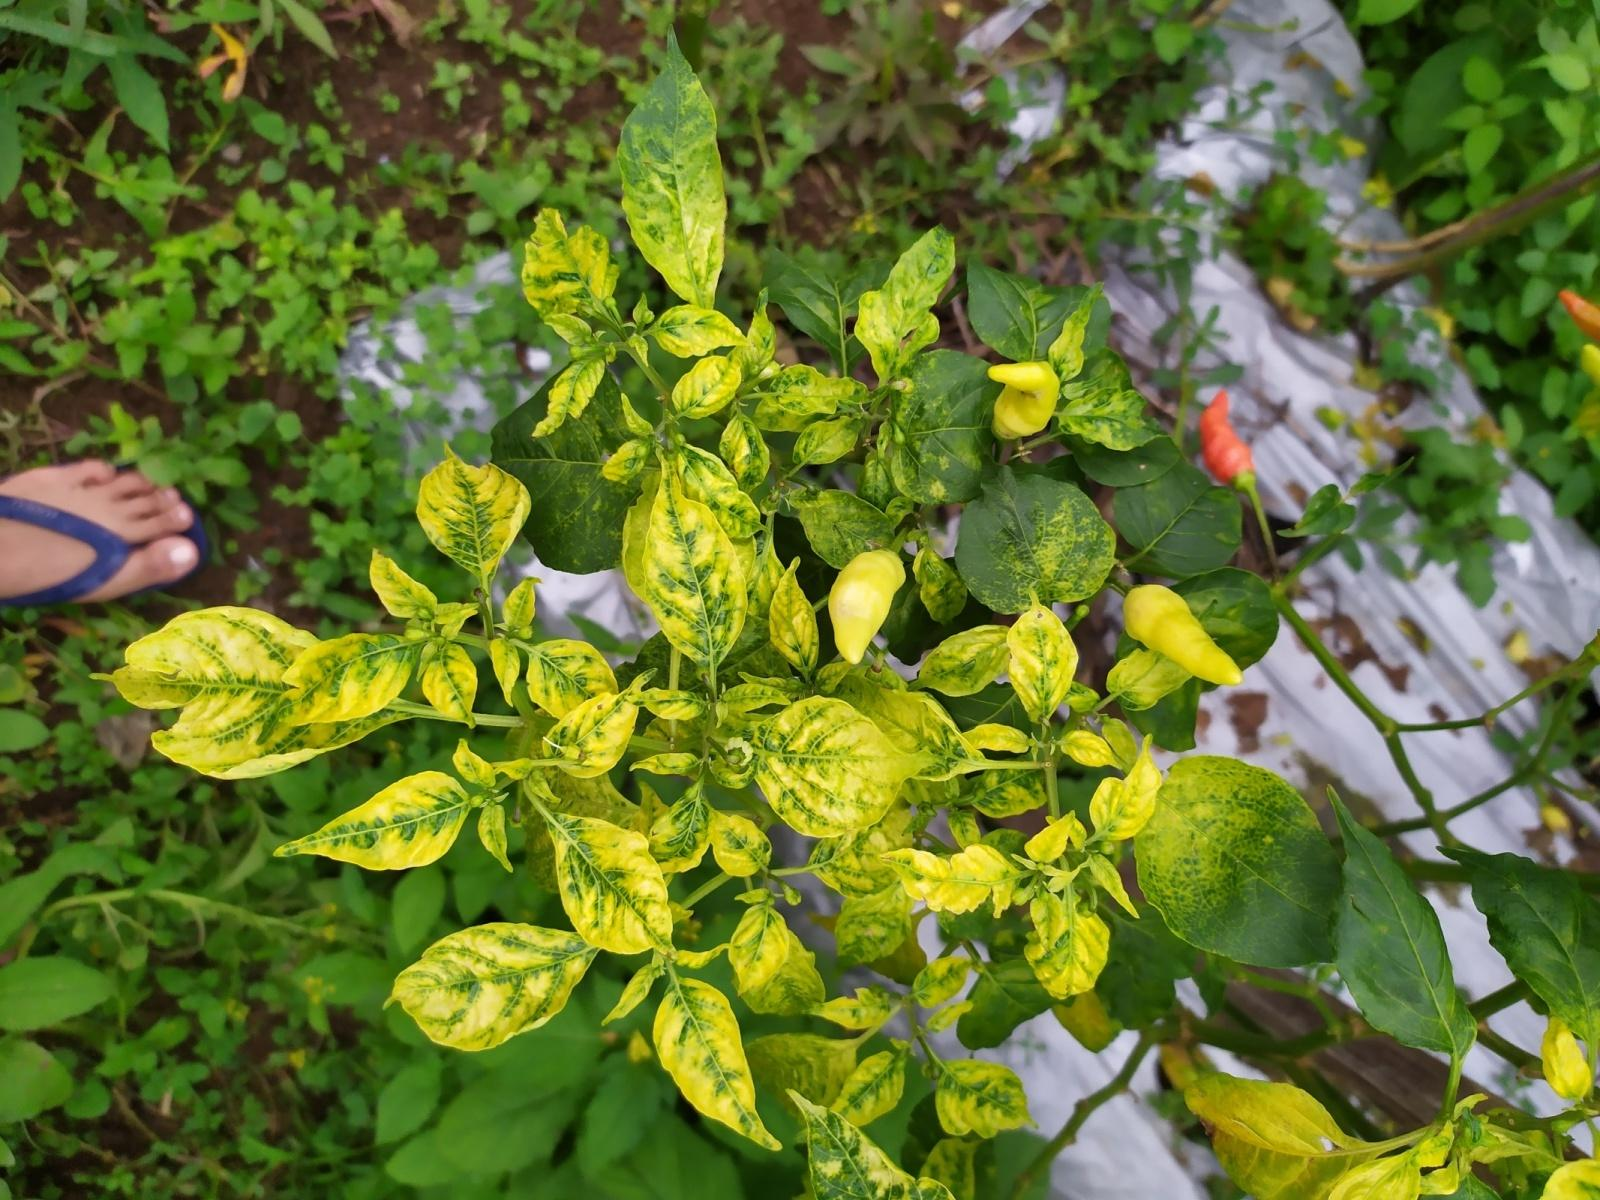cabai_normal: (1123, 587, 1238, 684), (826, 550, 907, 666), (986, 361, 1061, 439), (1194, 393, 1249, 485)
